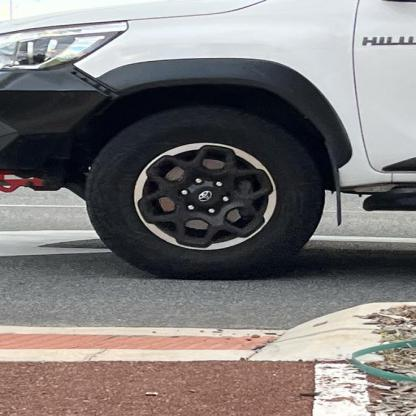Tire: (86, 105, 325, 279)
